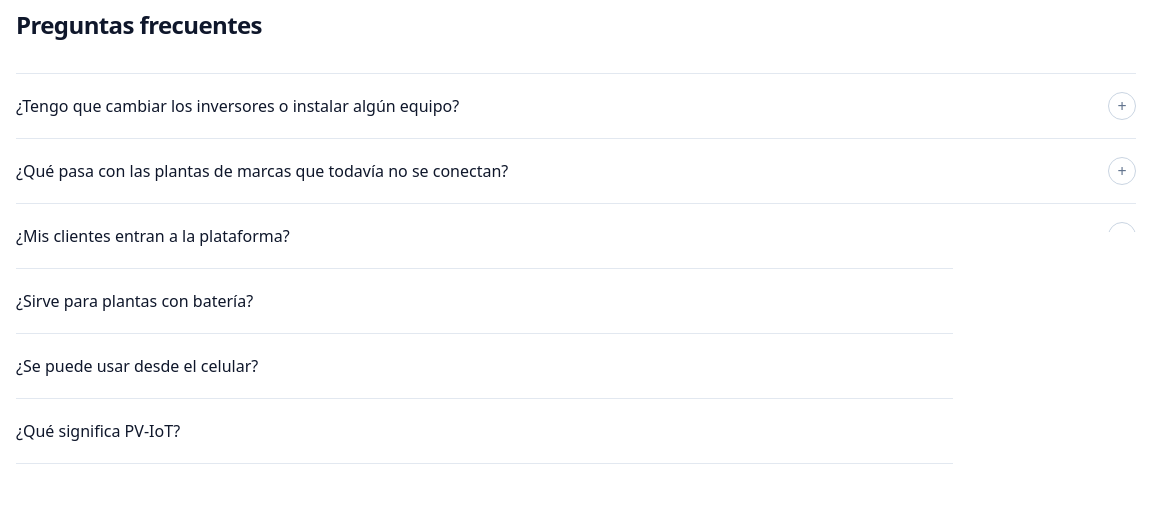
Scenario: páginas del sitio › contacto: correo y WhatsApp configurados, y explica el nombre
(page scrolled)
Step 1. Click the heading "¿Qué significa PV-IoT? +" → (98, 431), box [16, 417, 1136, 445]
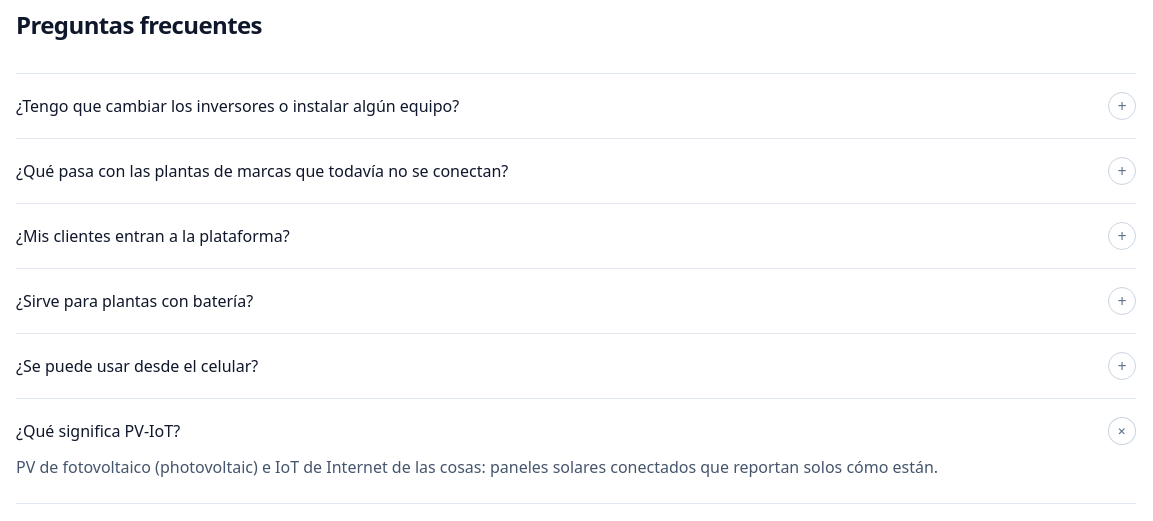
Expected: the text "Internet de las cosas" is shown, [16, 456, 938, 478]
